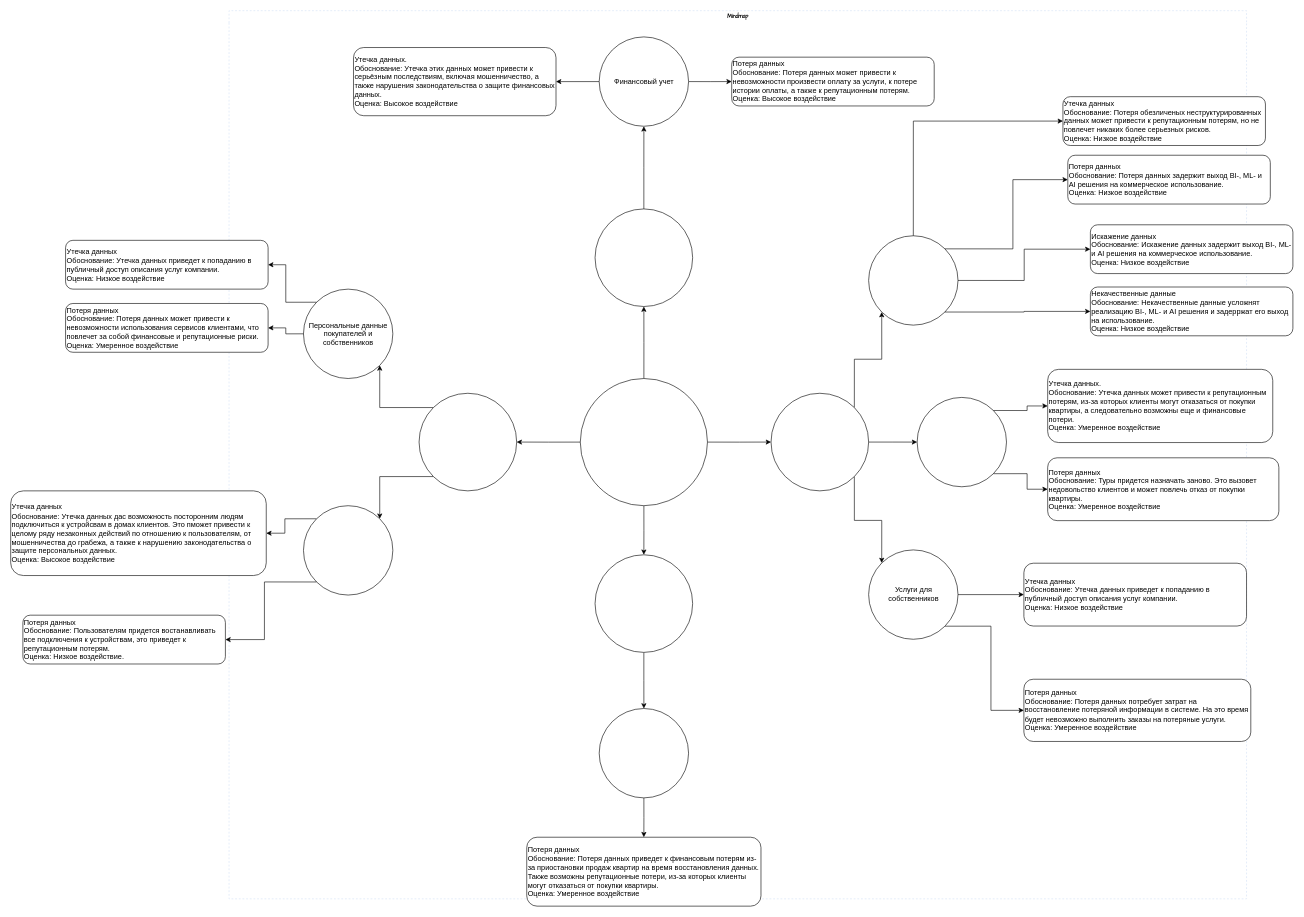
Image size: 1304x917. Some labels were removed from this diagram. Each missing label, with the box of its shape:
"Накопленные данные" для BI-, ML- и AI-технологий: (868, 235, 958, 325)
Безопасность данных: (580, 378, 707, 506)
Внутренние данные: (770, 393, 869, 491)
Данные продаваемых квартир: (599, 708, 689, 798)
Данные устройств умного дома.: (303, 505, 393, 595)
Заявки на туры: (917, 397, 1006, 487)
Конфиденциальные данные: (418, 393, 517, 491)
Публичные данные: (594, 554, 693, 652)
Секретные данные: (594, 208, 693, 307)
